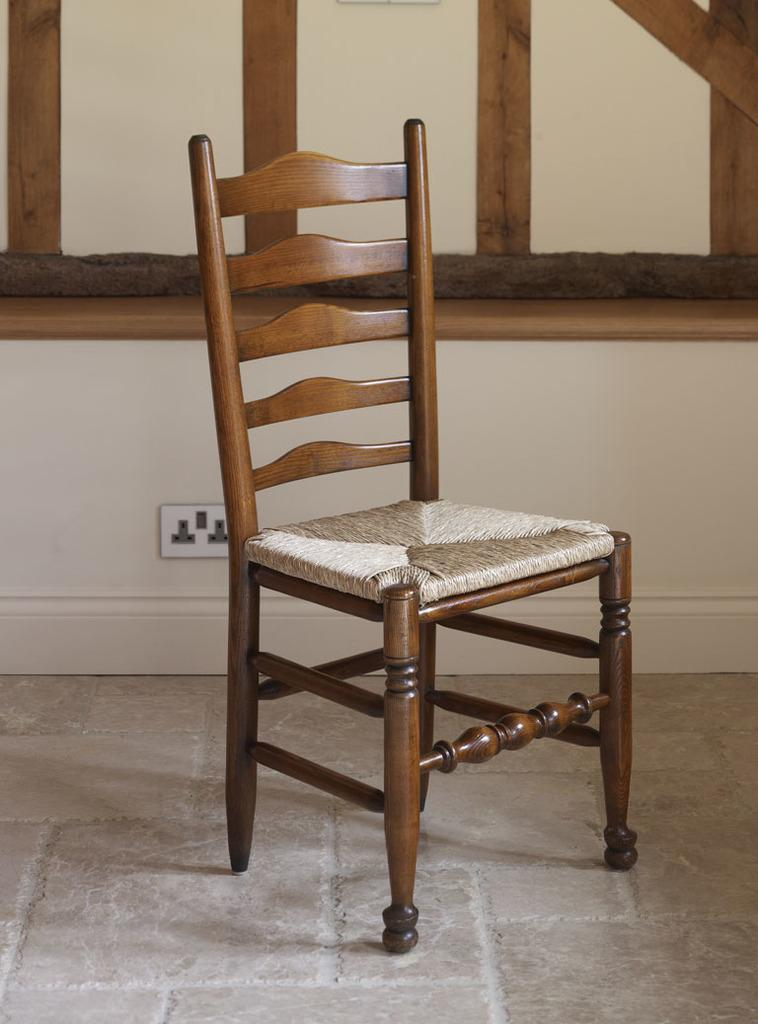Chair: (184, 112, 638, 963)
